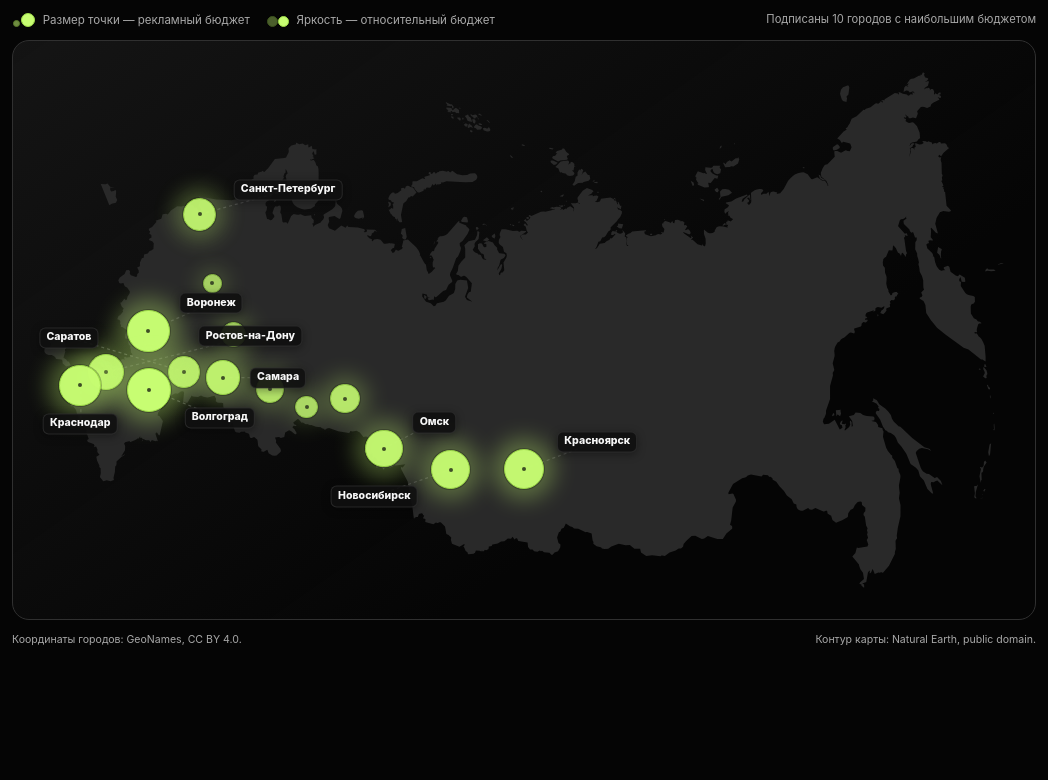
Test case: GeoBudgetMap › opens an exact historical tooltip without campaign count and closes on Escape
Hover over the button named "Волгоград. Исторический рекламный бюджет: 150 млн ₽. Доля об" at x=149, y=390, box [127,368,171,412]
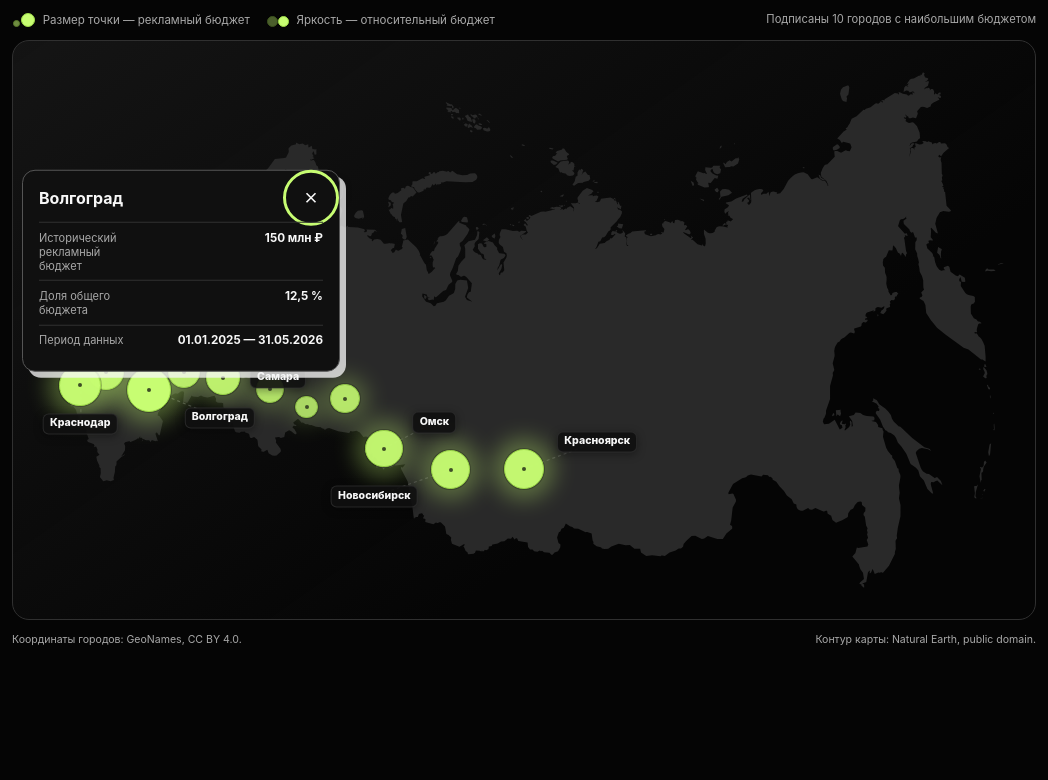
Expected: the 1st text "Волгоград" is shown, [39,188,123,208]
Expected: the text "Исторический рекламный бюджет" is shown, [39,230,117,272]
Expected: the text "Доля общего бюджета" is shown, [39,289,110,317]
Press Escape in the element that starts with "Размер точки — рекламный бюджет"
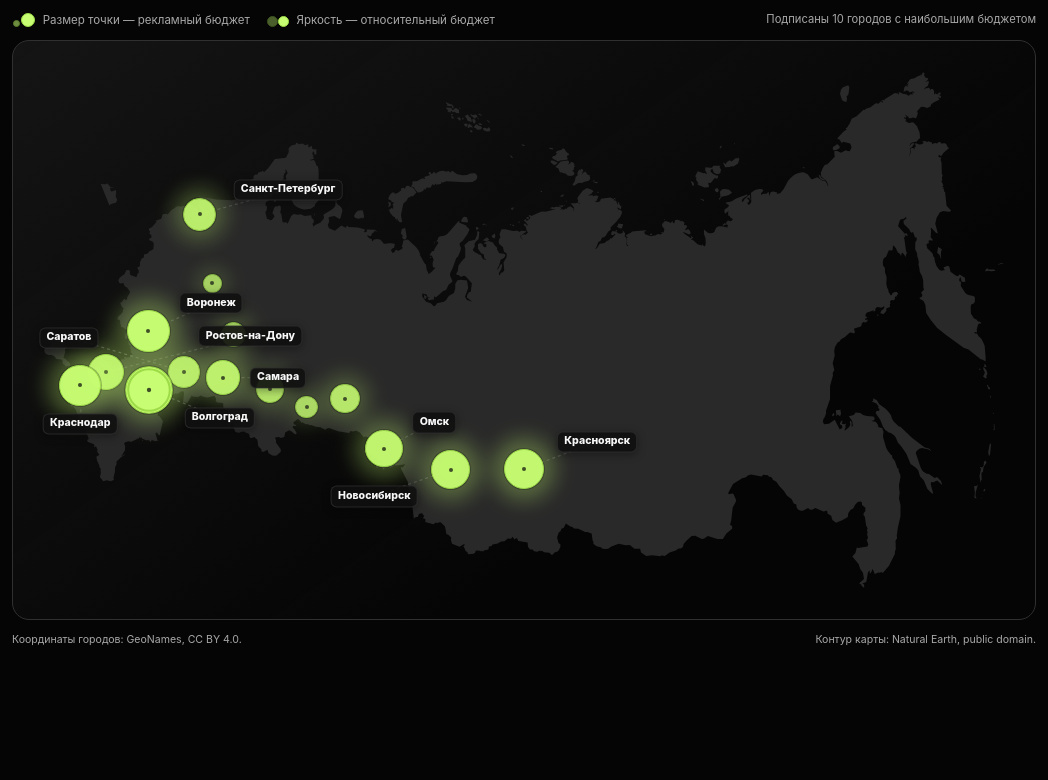
Expected: the tooltip is gone
